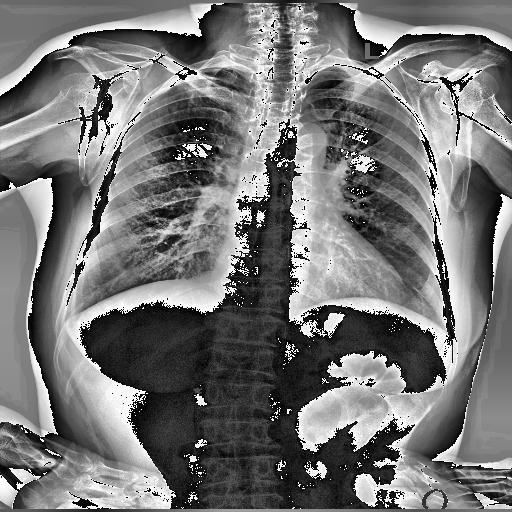0- Aortic enlargement: (278, 122, 326, 164), (278, 122, 326, 152)
13- Pulmonary fibrosis: (168, 78, 212, 113), (166, 79, 204, 109), (182, 76, 202, 108)
3- Cardiomegaly: (206, 255, 406, 310)
6- Infiltration: (168, 78, 212, 113)
